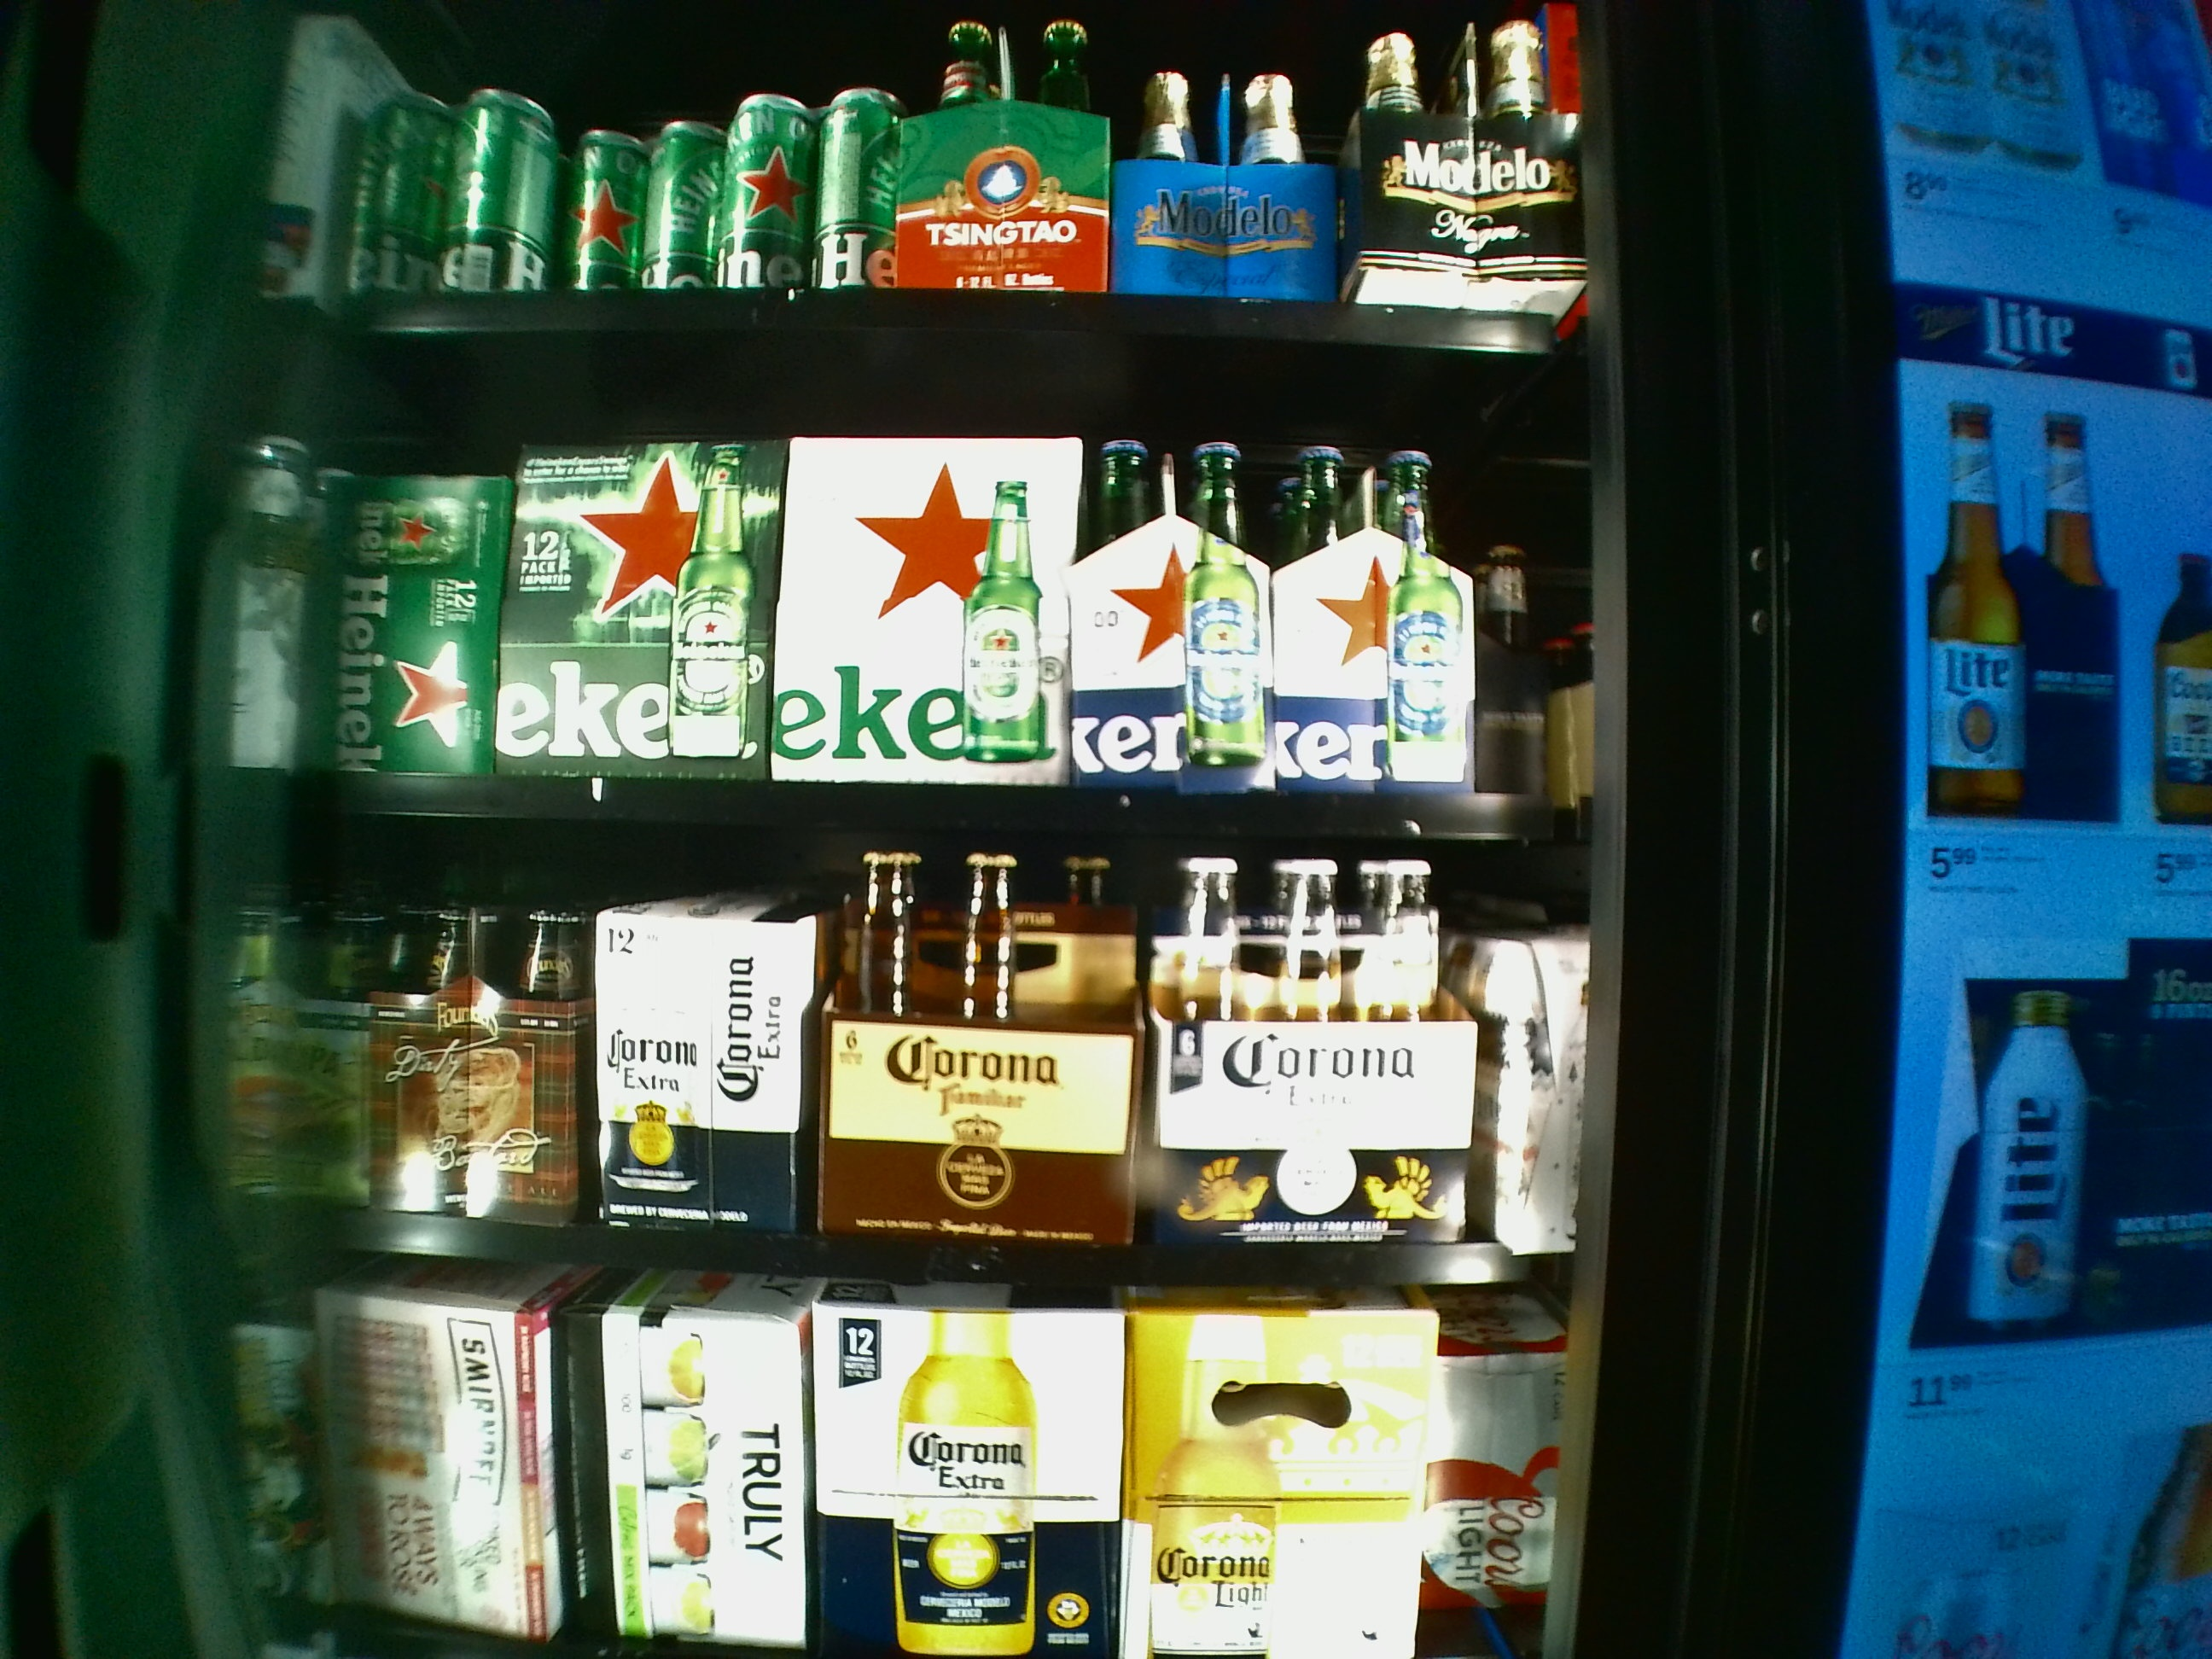shelf: (261, 350, 1566, 831), (261, 843, 1578, 1293)
